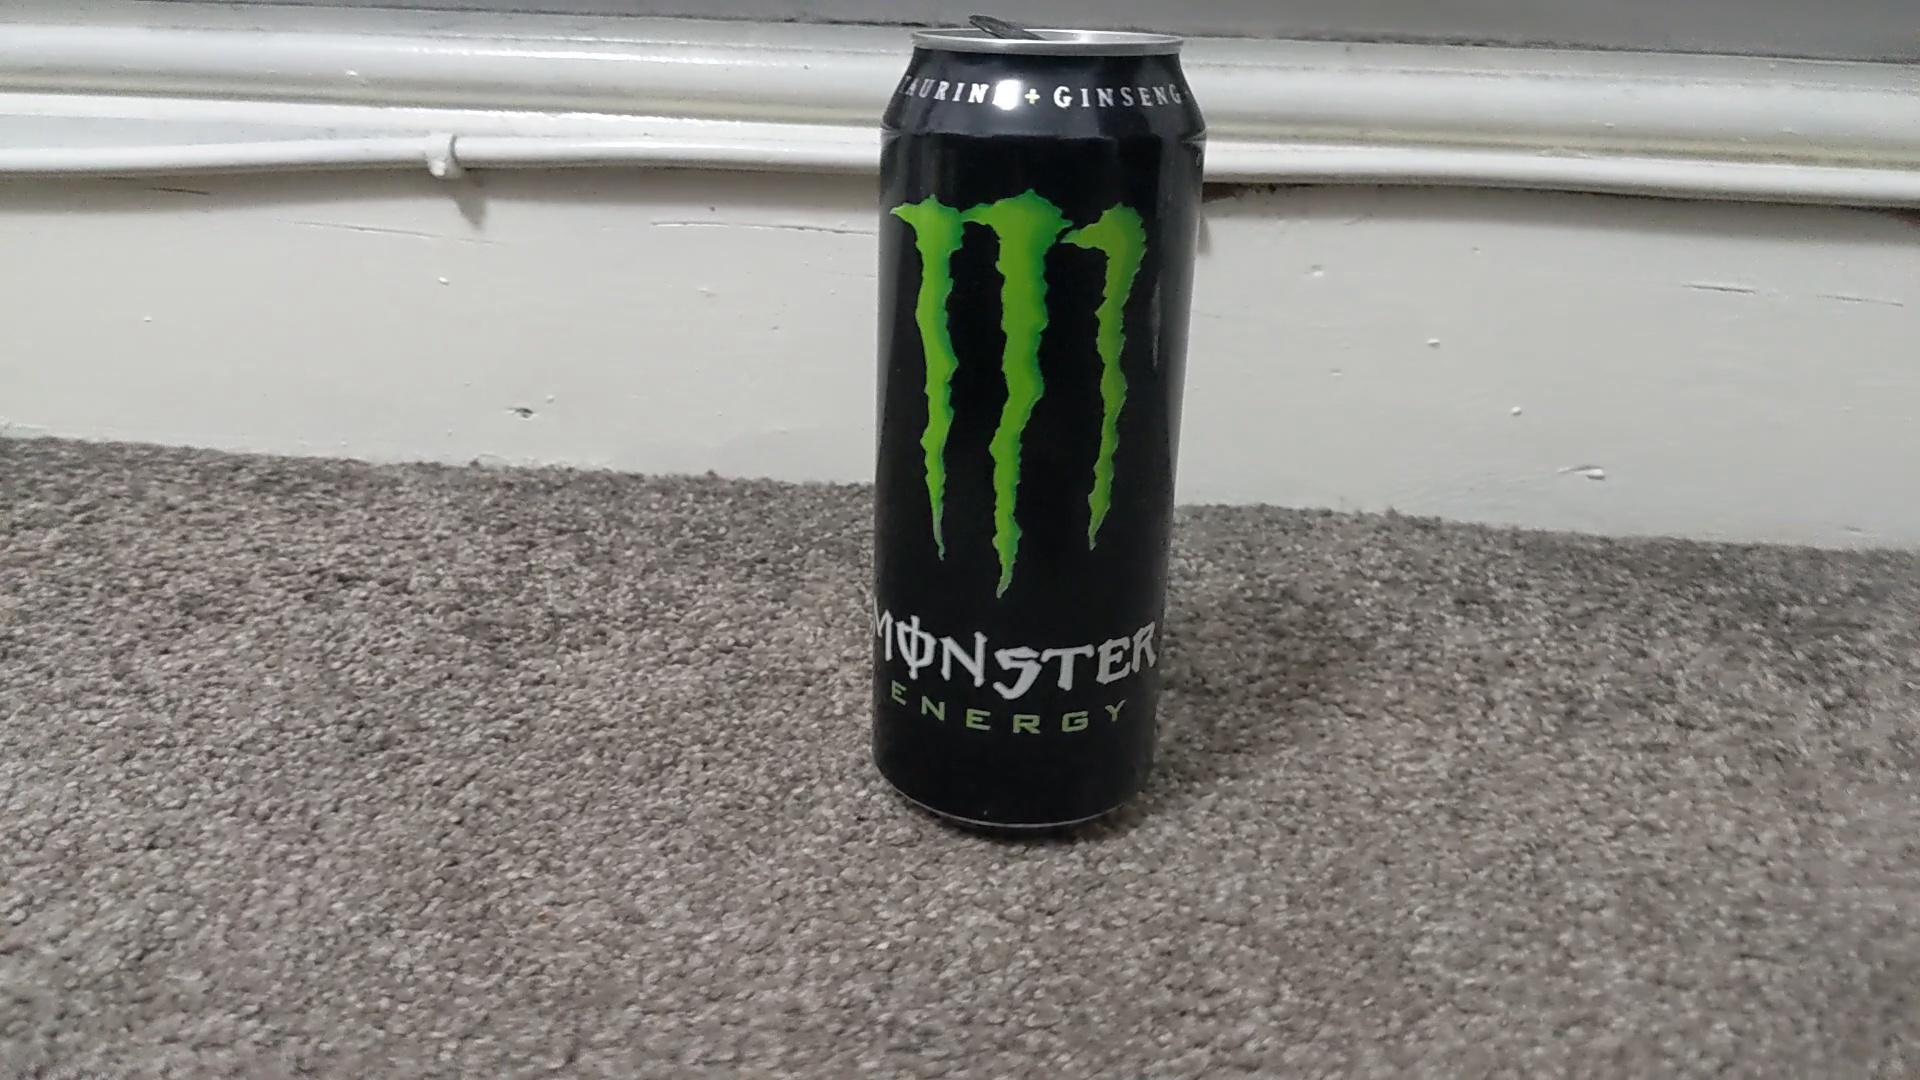monster-original: (869, 29, 1209, 831)
